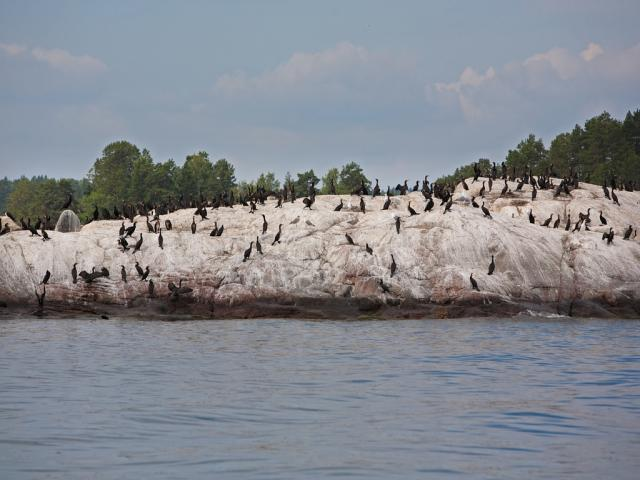Bird: (0, 156, 640, 320), (488, 251, 497, 275)
